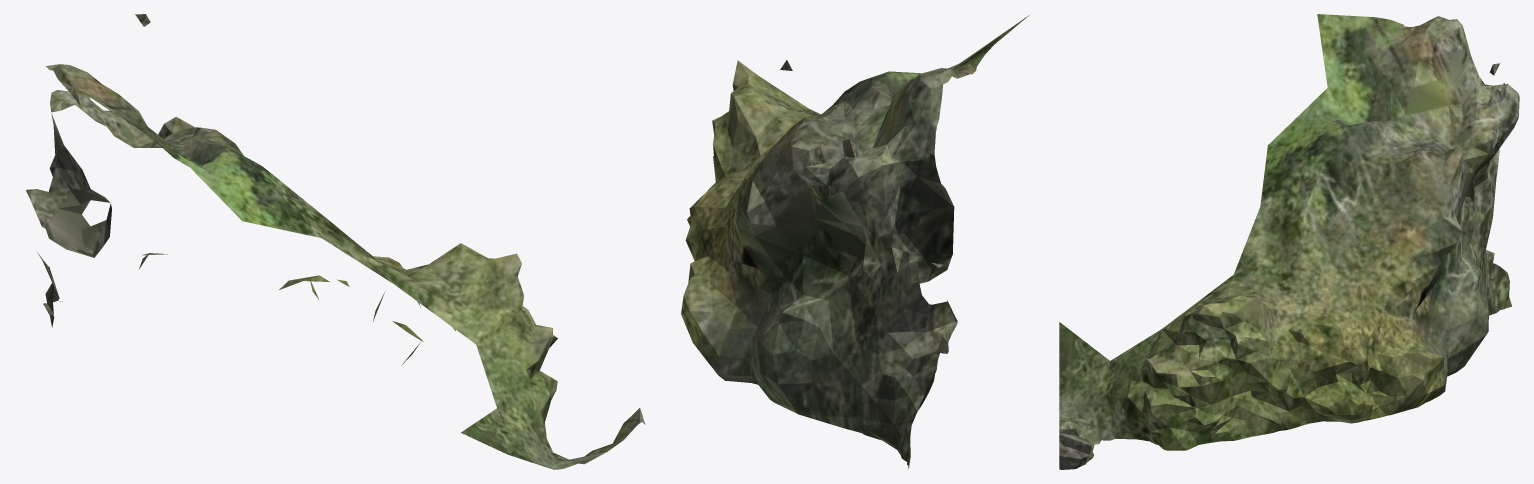
The picture shows the model from 3 angles, left to right: view 1: azimuth 30°, elevation 25°; view 2: azimuth 150°, elevation 25°; view 3: azimuth 270°, elevation 25°; orthographic projection. The views are drawn at different scales.
Size of the model in its own units: 10.18 by 8.3 by 11.77.
3 materials, 3 textured.
